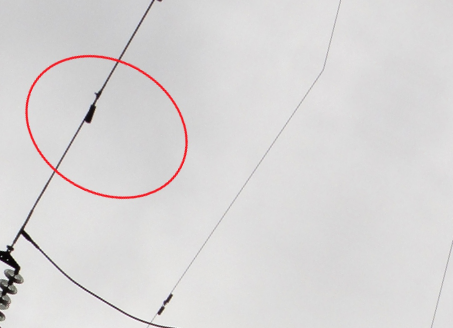damper: (156, 292, 174, 316)
damper_defect: (84, 84, 106, 124)
